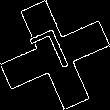L_SE: (30, 25, 80, 85)
